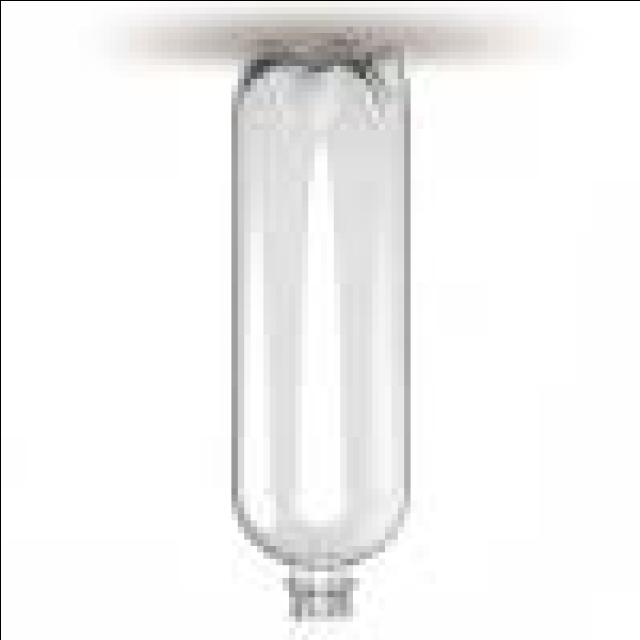bottle: (231, 55, 407, 619)
